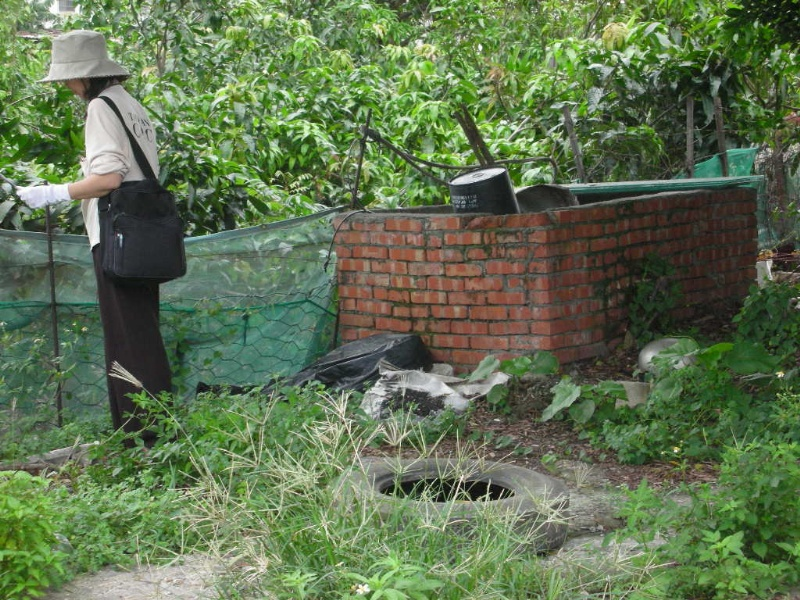bucket: (446, 164, 522, 213)
plastic_bag: (352, 359, 509, 426), (278, 330, 438, 393)
tire: (345, 455, 572, 554)
